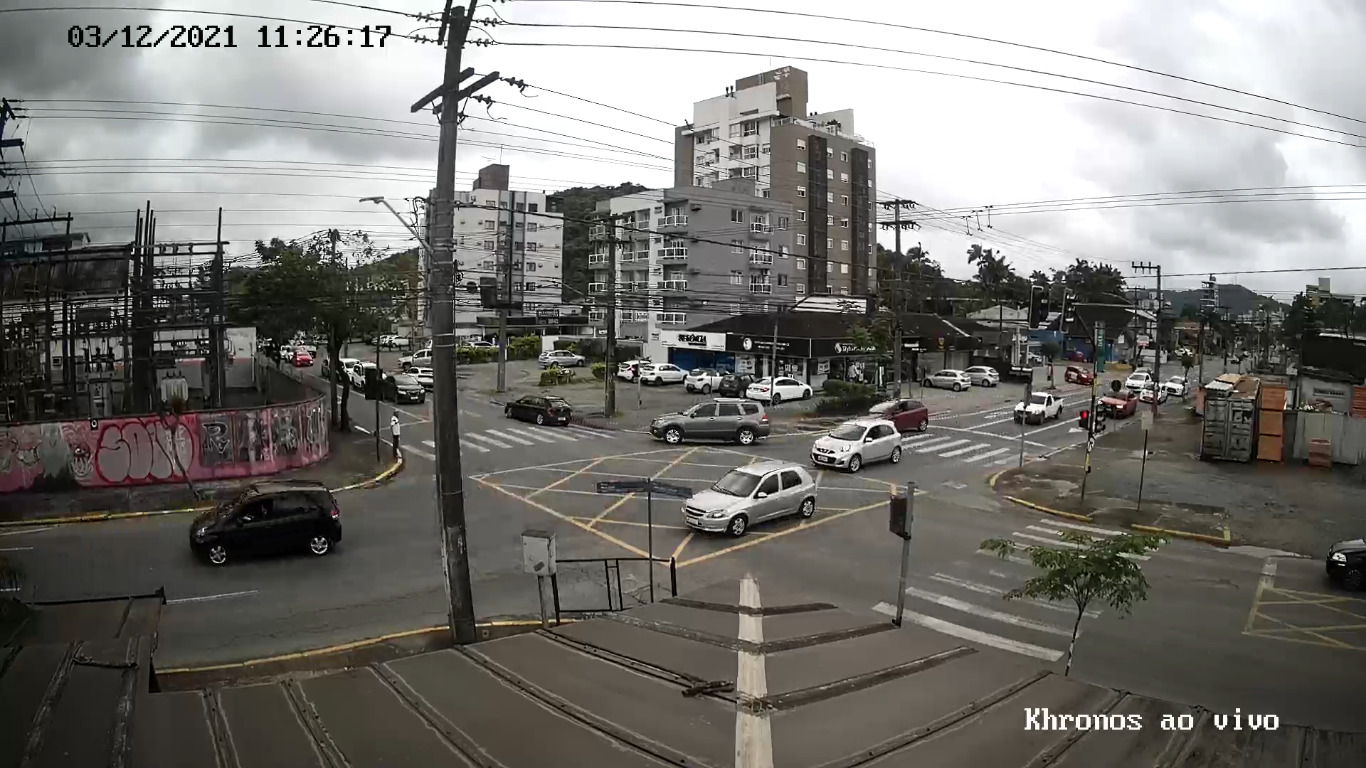car: (184, 479, 344, 568), (678, 458, 817, 540), (649, 397, 772, 447), (810, 417, 902, 474), (858, 397, 931, 439), (502, 393, 573, 430), (1012, 391, 1065, 427), (1095, 386, 1139, 423), (922, 367, 973, 395)
